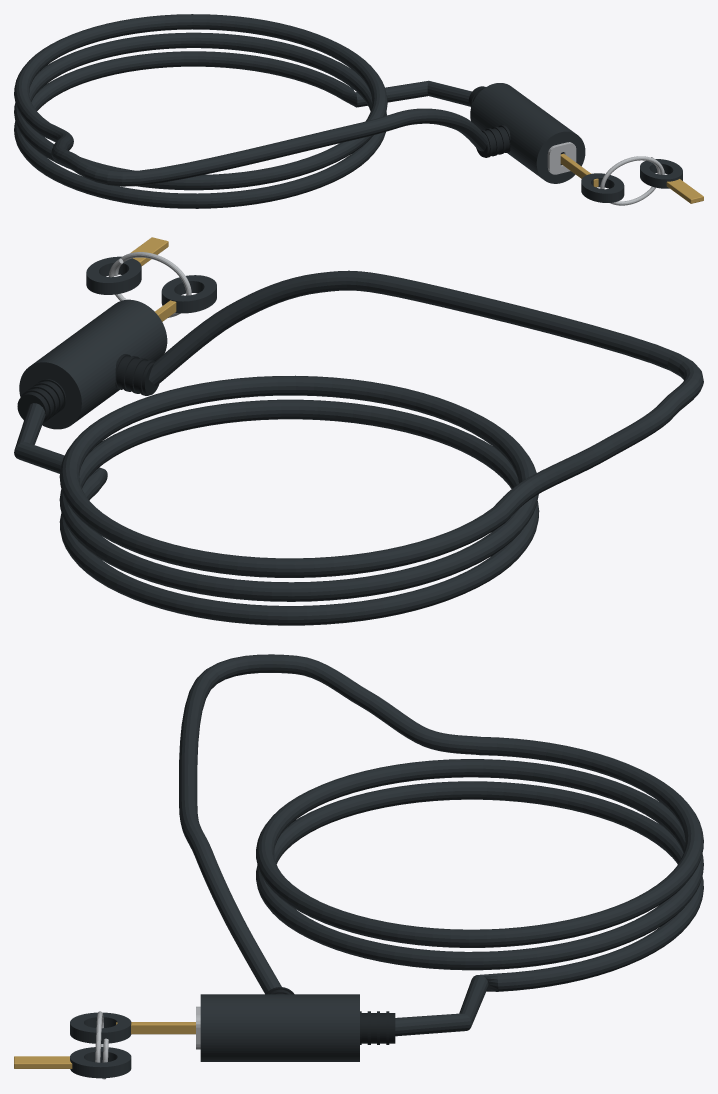
Rendered from full.glb.
3 renders of one model, top to bottom at view 1: azimuth 30°, elevation 25°; view 2: azimuth 150°, elevation 25°; view 3: azimuth 270°, elevation 25°, orthographic. The views are drawn at different scales.
Parts seen in each view (by area): view 1: One continuous coiled cable, Cylindrical lock body, Oval key head 0, Oval key head 1, Small split key ring, Key cylinder slot rim, Loose plain key blade, Side flexible boot, Inserted plain key blade; view 2: One continuous coiled cable, Cylindrical lock body, Oval key head 1, Oval key head 0, Side flexible boot, Small split key ring, End flexible boot; view 3: One continuous coiled cable, Cylindrical lock body, Oval key head 1, Oval key head 0, Inserted plain key blade, End flexible boot, Loose plain key blade.
Part boxes in pixels (x1=…): One continuous coiled cable: x1=14, y1=14, x2=487, y2=208; Cylindrical lock body: x1=470, y1=83, x2=585, y2=183; Oval key head 0: x1=581, y1=173, x2=624, y2=202; Oval key head 1: x1=640, y1=159, x2=682, y2=188; Small split key ring: x1=600, y1=156, x2=664, y2=205; Key cylinder slot rim: x1=547, y1=142, x2=576, y2=174; Loose plain key blade: x1=666, y1=179, x2=703, y2=203; Side flexible boot: x1=476, y1=127, x2=509, y2=157; Inserted plain key blade: x1=560, y1=153, x2=598, y2=187; One continuous coiled cable: x1=14, y1=270, x2=703, y2=625; Cylindrical lock body: x1=19, y1=299, x2=167, y2=429; Oval key head 1: x1=86, y1=256, x2=141, y2=294; Oval key head 0: x1=161, y1=275, x2=216, y2=313; Side flexible boot: x1=116, y1=356, x2=159, y2=395; Small split key ring: x1=108, y1=252, x2=191, y2=317; End flexible boot: x1=17, y1=381, x2=63, y2=420; One continuous coiled cable: x1=179, y1=654, x2=703, y2=1036; Cylindrical lock body: x1=200, y1=994, x2=359, y2=1061; Oval key head 1: x1=70, y1=1047, x2=131, y2=1078; Oval key head 0: x1=70, y1=1012, x2=131, y2=1043; Inserted plain key blade: x1=116, y1=1022, x2=195, y2=1034; End flexible boot: x1=361, y1=1013, x2=395, y2=1043; Loose plain key blade: x1=14, y1=1056, x2=72, y2=1068.
Bounding box in the file's own units: 0.4846 × 0.0991 × 0.4495.
